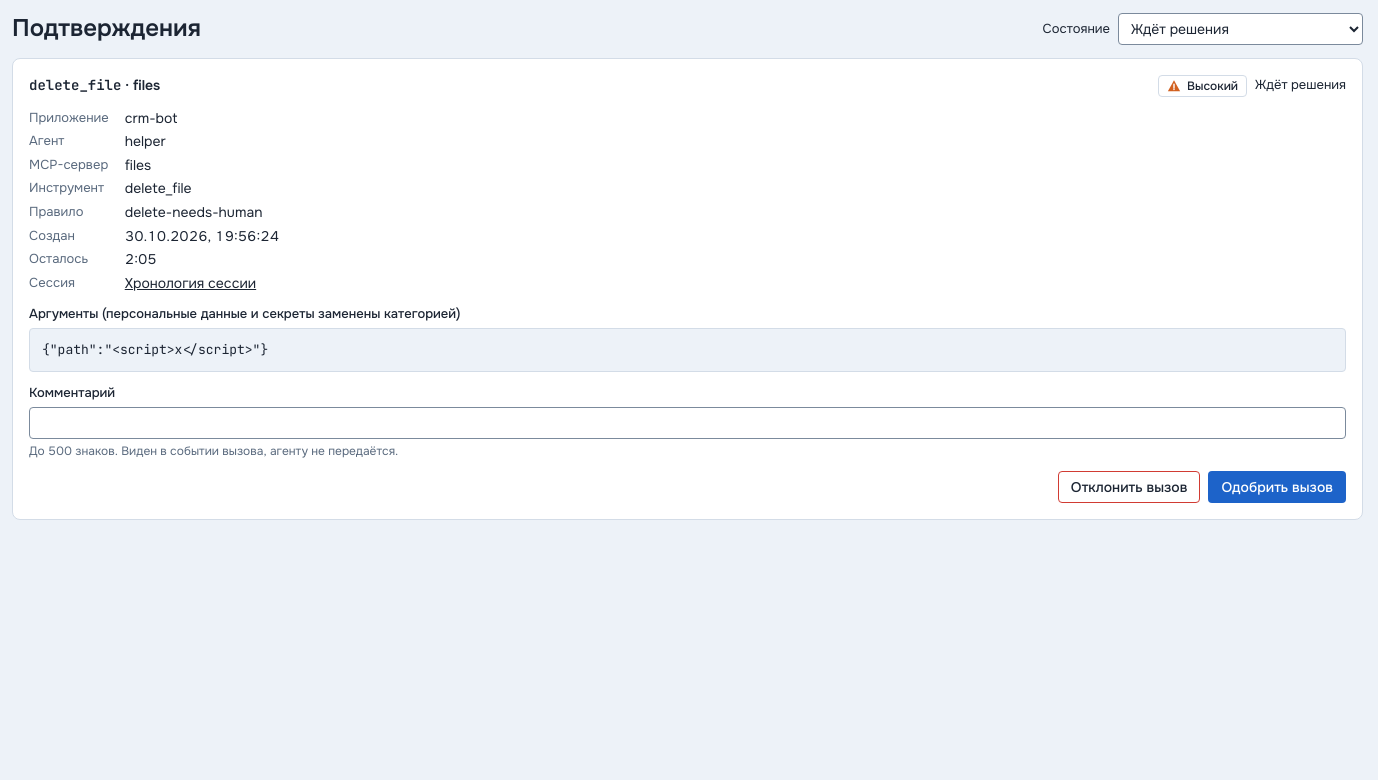
it: экран «Подтверждения» › 409: запрос изменился — сообщение и обновление данных
Expected: the text "{\"path\":\"<script>x</script>\"}" is shown, x1=29 y1=328 x2=1346 y2=372
Click the button "Одобрить вызов" at (1277, 487), box x1=1208 y1=471 x2=1346 y2=503
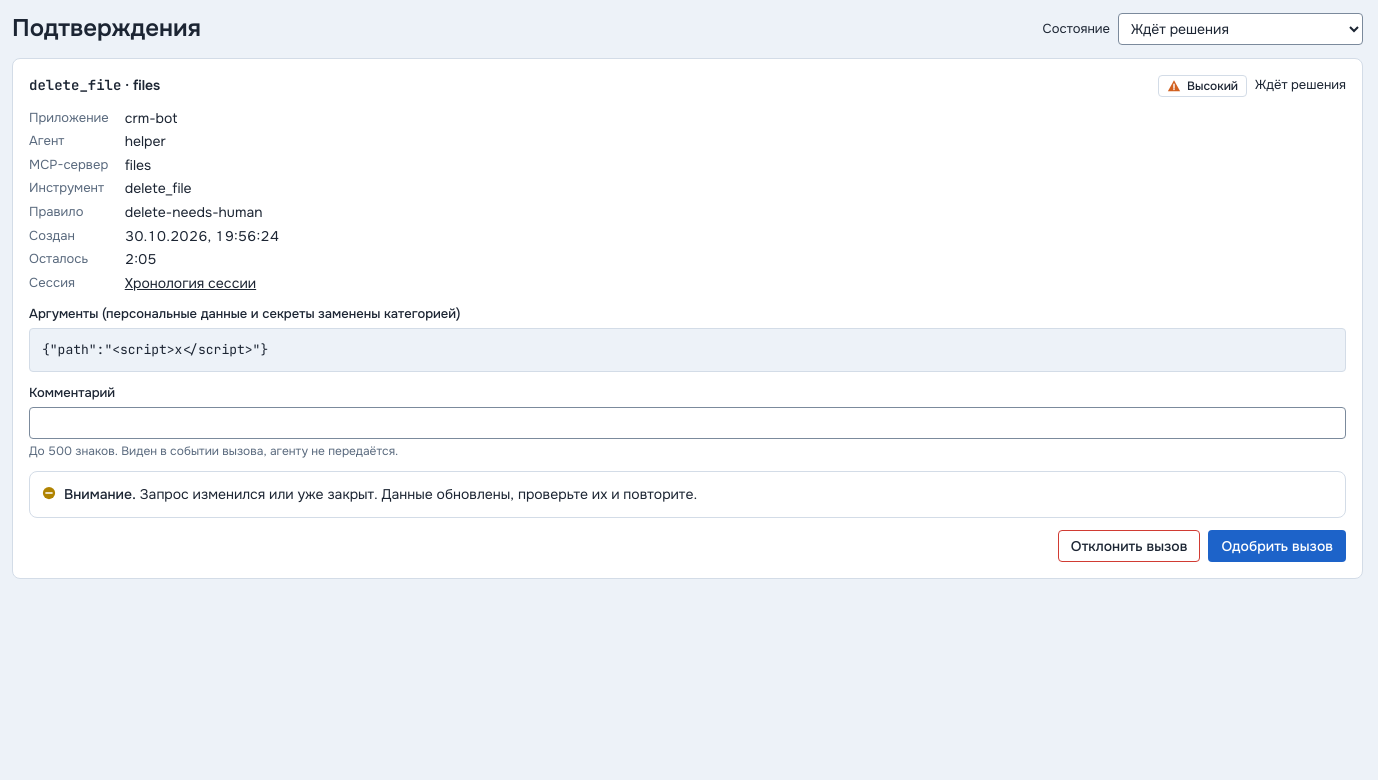
Now the text "Запрос изменился или уже закрыт" is shown, box x1=140 y1=485 x2=697 y2=503
